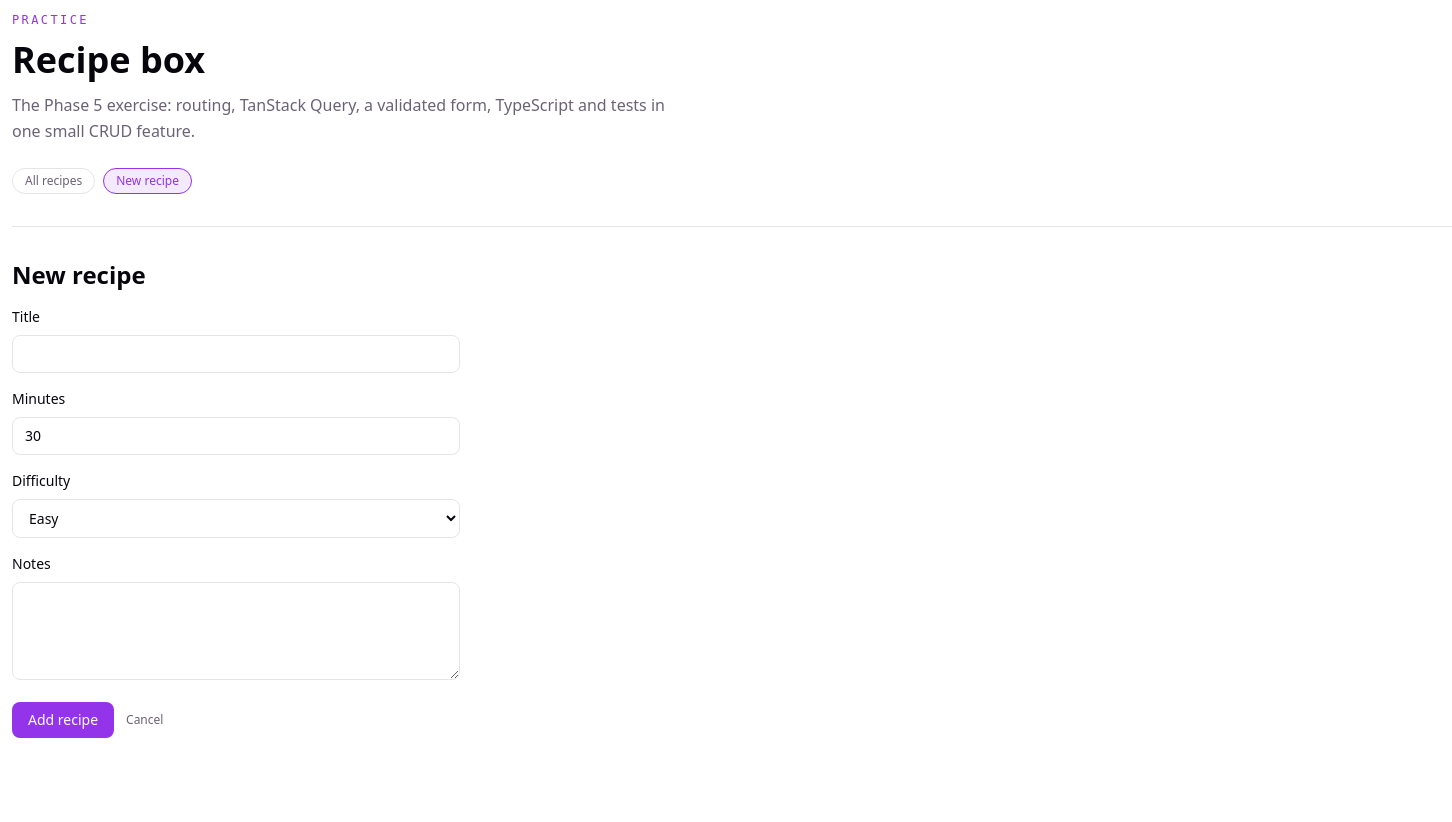
recipe box › blocks an invalid form before calling the API
This screenshot has width=1452, height=822.
Click the button "Add recipe" at (63, 720), box x1=12 y1=702 x2=114 y2=738
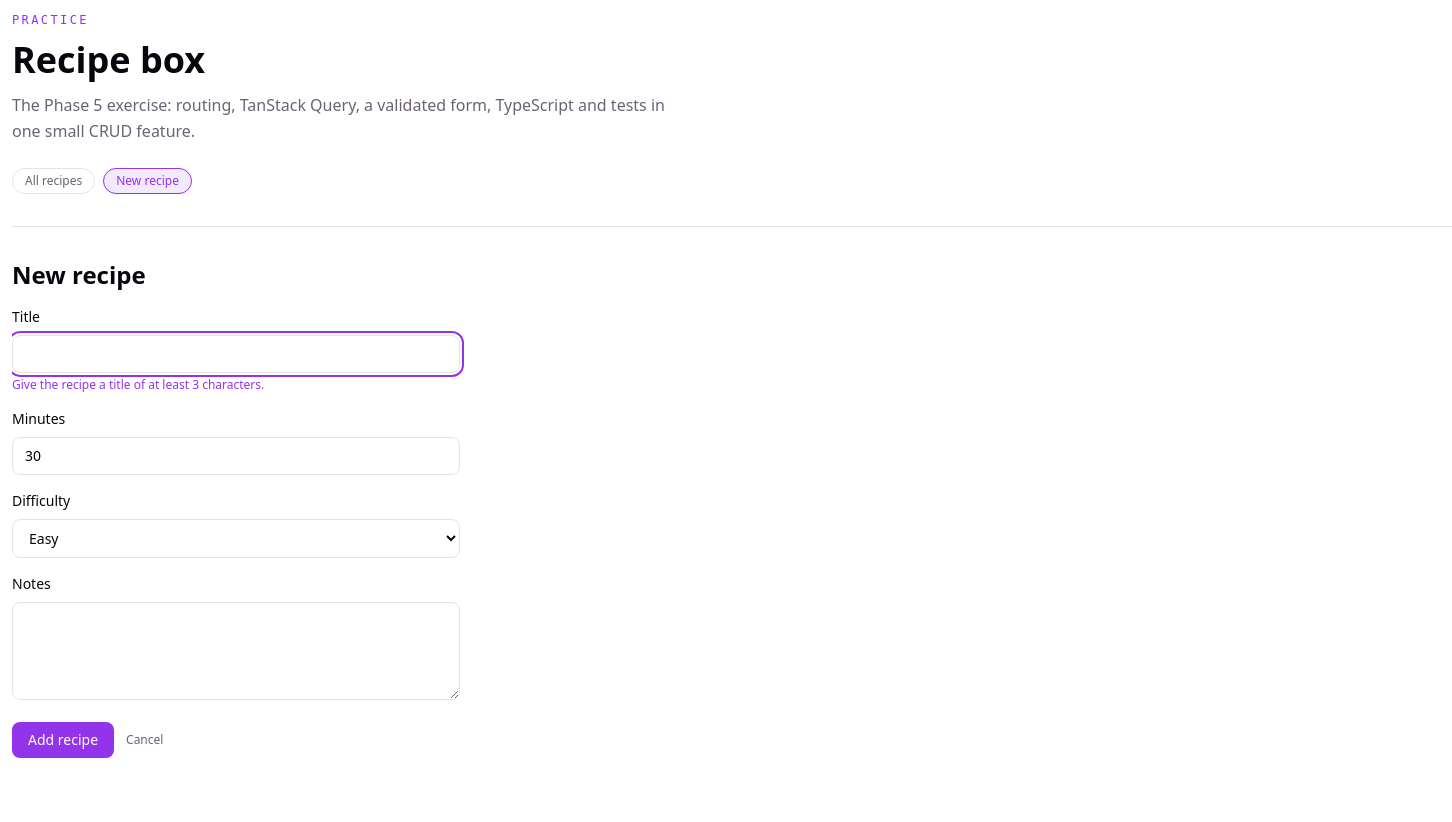
Expected: the text "Give the recipe a title of at least 3 characters." is shown, x1=12 y1=376 x2=264 y2=393
